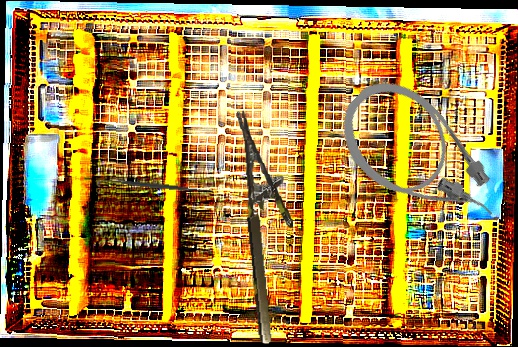Cannula: (323, 63, 515, 258)
Needle Holder: (236, 106, 304, 345)
Spatula Surgical: (98, 174, 211, 198)
